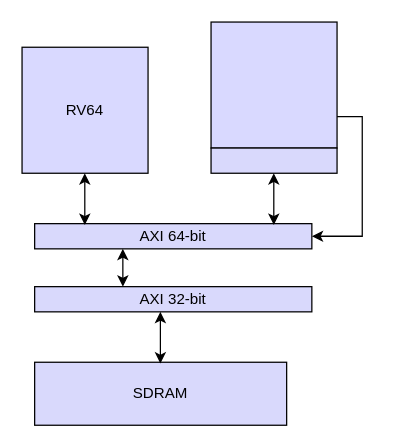
The diagram is 394 pixels wide and 447 high, and some of its shapes have lost their labels. Each missing label, with the centre of its shape:
"DLA MAC Array" goes at point (273, 84).
"Memory Banks" goes at point (273, 160).
